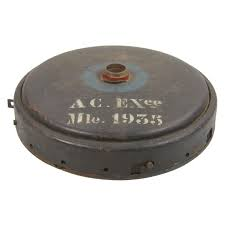car: (5, 23, 225, 205)
